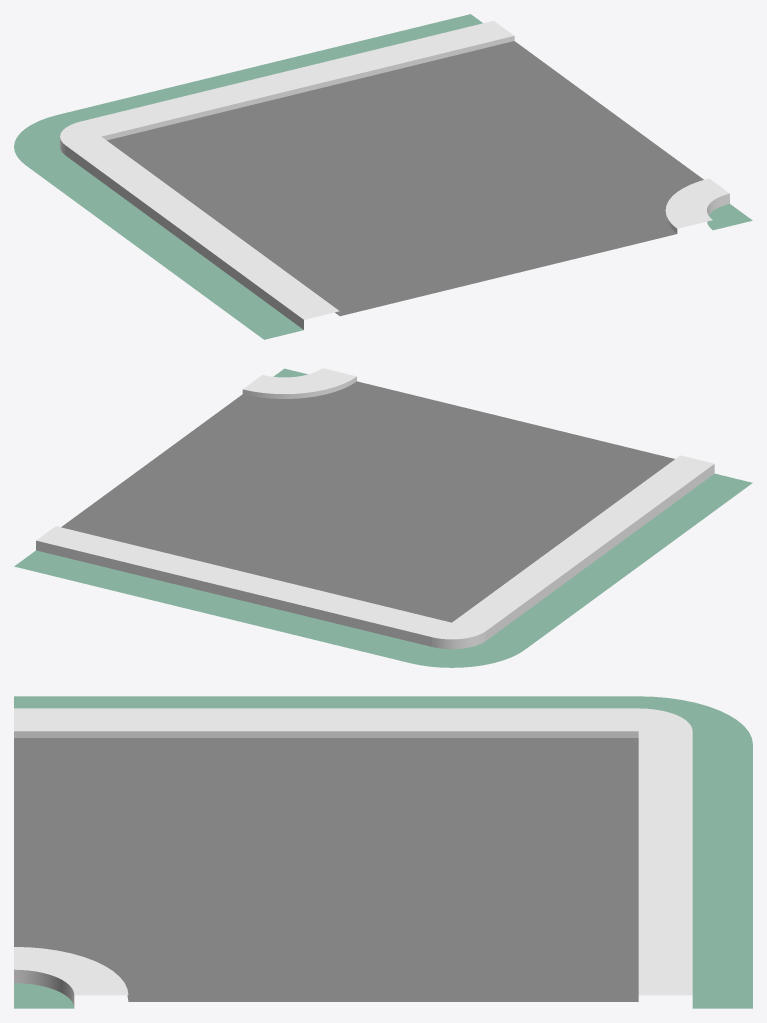
Rendered from roadCornerSmallSquare.glb.
3 renders of one model, top to bottom at view 1: azimuth 30°, elevation 25°; view 2: azimuth 150°, elevation 25°; view 3: azimuth 270°, elevation 25°, orthographic. The views are drawn at different scales.
Parts seen in each view (by area): view 1: roadCornerSmallSquare; view 2: roadCornerSmallSquare; view 3: roadCornerSmallSquare.
Boxes of the visible parts, bbox=[...] form: roadCornerSmallSquare: bbox=[14, 14, 752, 339]; roadCornerSmallSquare: bbox=[14, 368, 752, 667]; roadCornerSmallSquare: bbox=[14, 696, 752, 1008].
Size of the model in its own units: 5 by 0.1 by 5.
